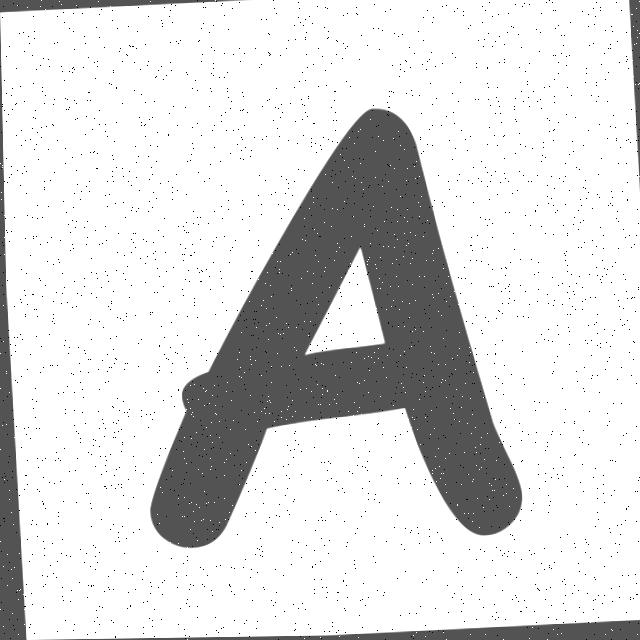A: (148, 110, 519, 548)
